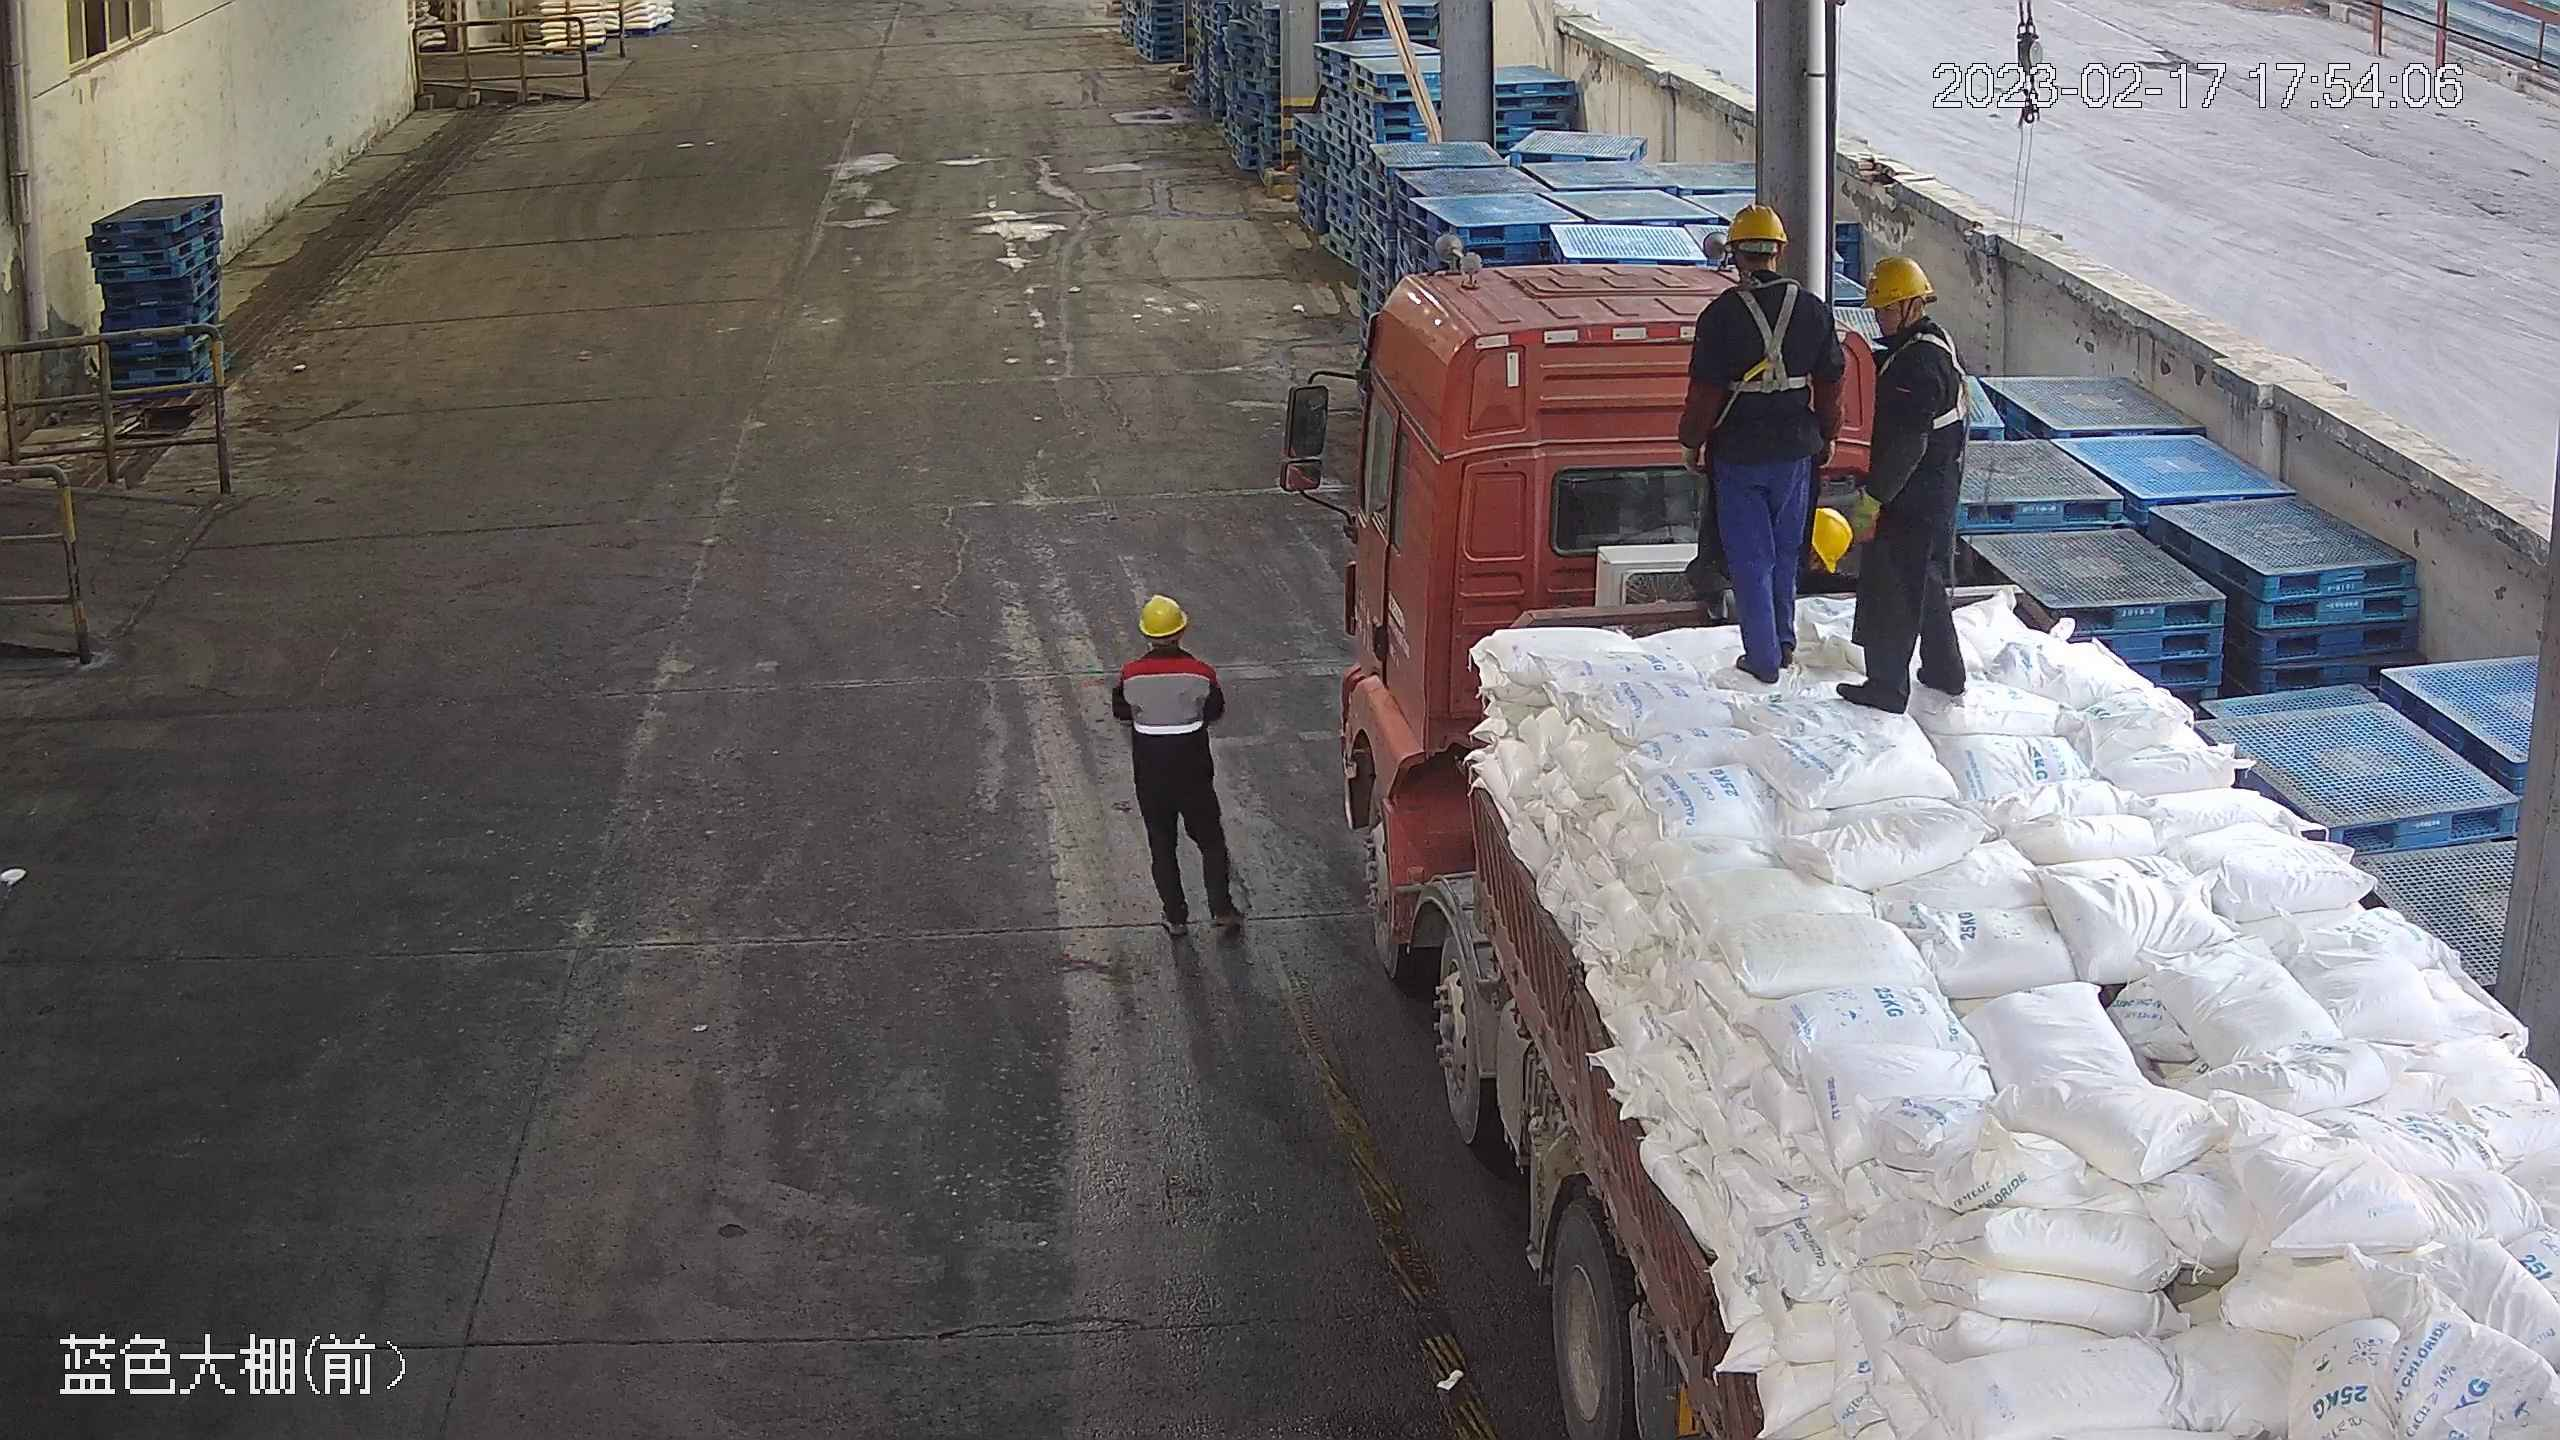belt: (1719, 286, 1814, 399), (1895, 328, 1980, 430)
head: (1691, 202, 1836, 335), (1856, 254, 1965, 380), (1113, 595, 1217, 696), (1860, 253, 1936, 311)
helmet: (1861, 253, 1934, 310), (1810, 502, 1856, 574), (1721, 203, 1790, 246), (1137, 591, 1191, 640)
people: (1678, 203, 1847, 689), (1833, 254, 1976, 716), (1109, 589, 1250, 940)
truck: (1278, 235, 2559, 1440)
